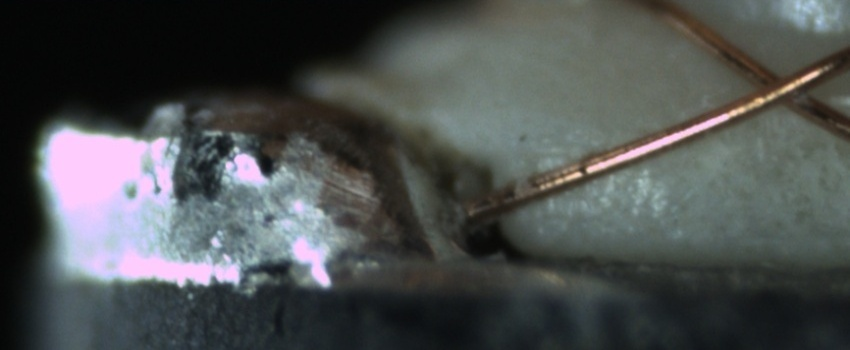CL: (725, 49, 834, 120)
DL: (515, 127, 641, 179)
